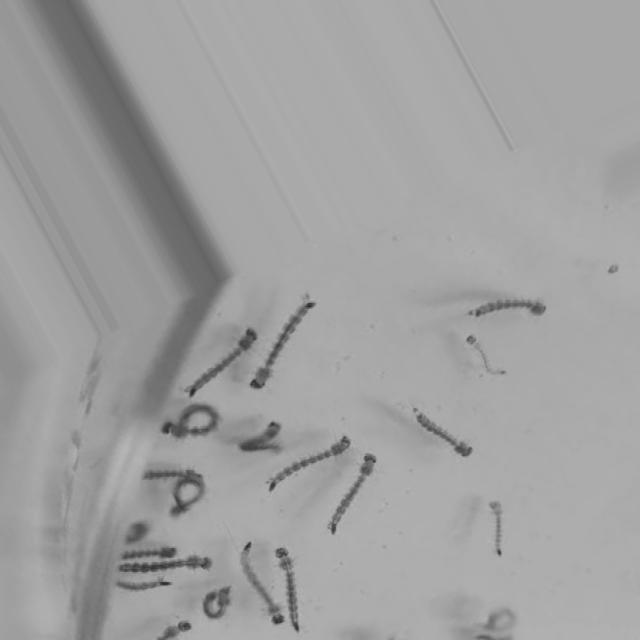larvas: (308, 435, 398, 572), (241, 281, 336, 398), (250, 432, 359, 508), (179, 312, 276, 395), (411, 398, 497, 480), (237, 524, 290, 634), (228, 412, 320, 473), (453, 333, 524, 407), (268, 524, 313, 634), (451, 297, 566, 336), (478, 483, 523, 573), (162, 395, 224, 448), (122, 545, 228, 575), (194, 577, 231, 640), (164, 473, 212, 520), (472, 605, 536, 640), (106, 572, 178, 600), (136, 611, 198, 640), (145, 457, 206, 478), (116, 543, 184, 561)
